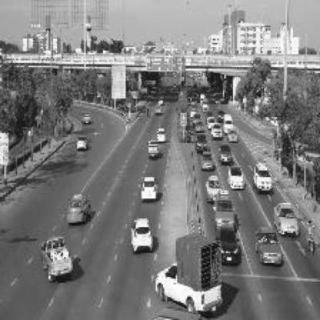other: (274, 199, 298, 237)
